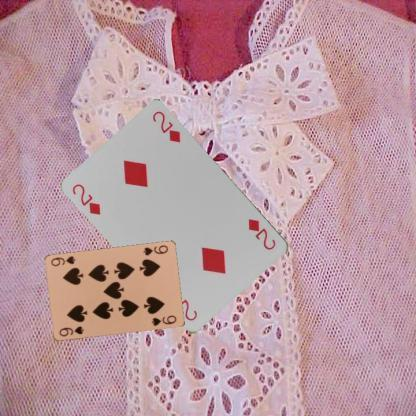2d: (70, 181, 102, 217), (246, 216, 278, 251)
9s: (140, 242, 169, 258), (57, 324, 84, 338)
